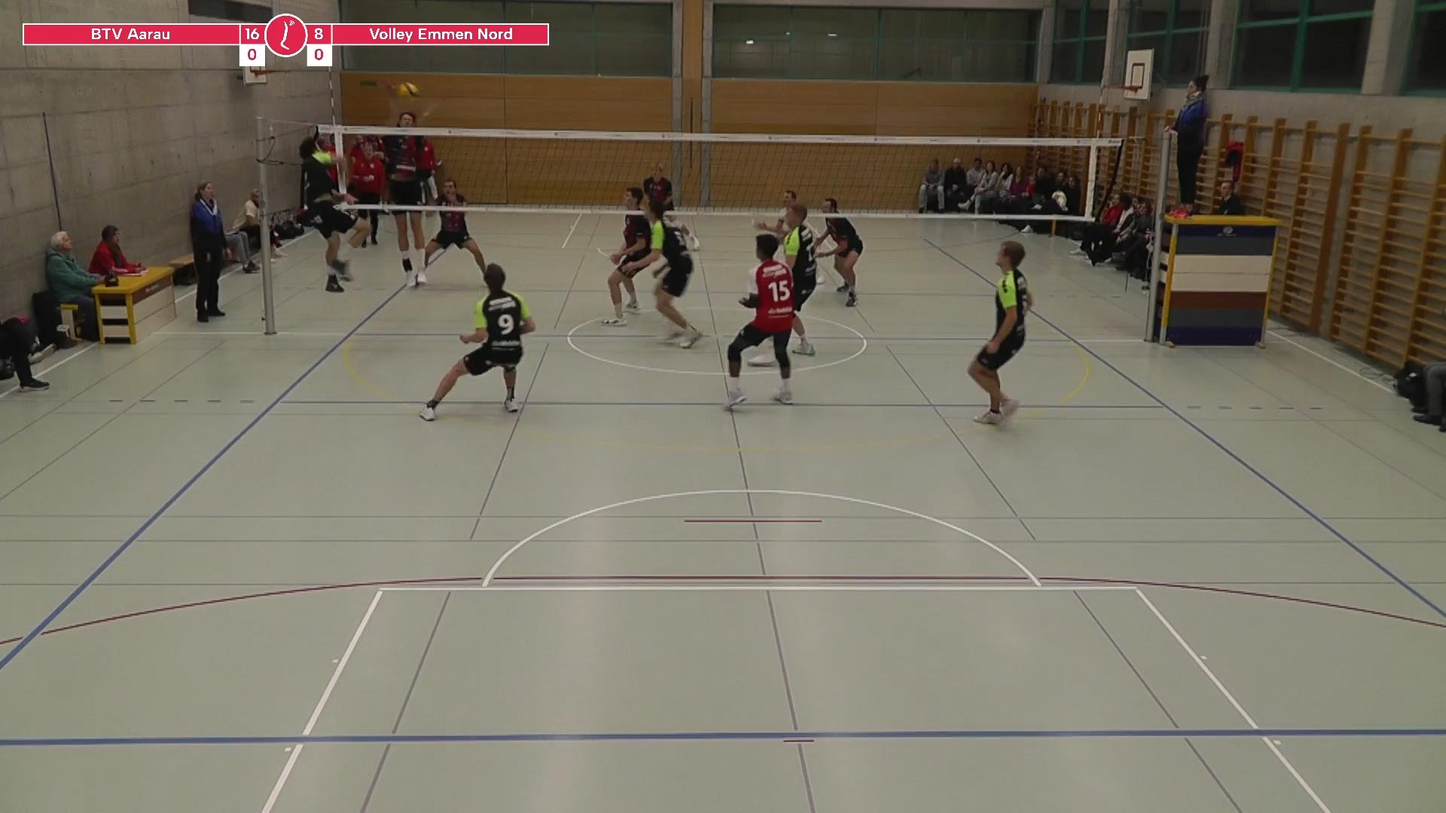attacco: (291, 130, 370, 294)
muro: (379, 91, 442, 291)
